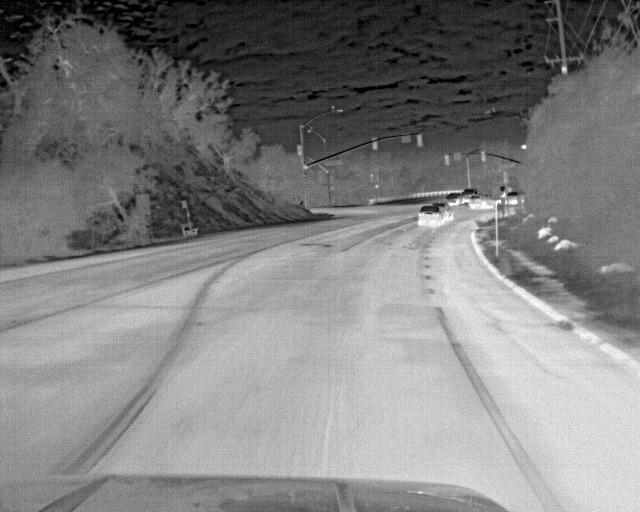car: (418, 206, 444, 226), (432, 201, 453, 221), (444, 193, 463, 205), (461, 188, 477, 202), (469, 195, 483, 207), (479, 193, 492, 205)
light: (417, 134, 422, 147), (372, 137, 377, 149), (503, 172, 508, 184), (481, 150, 486, 161), (445, 155, 449, 165), (297, 146, 301, 155), (370, 174, 373, 182), (376, 174, 379, 181), (508, 188, 512, 192), (375, 185, 379, 188)
sign: (136, 194, 150, 215), (325, 160, 342, 166), (401, 133, 411, 143), (453, 151, 461, 161), (182, 201, 187, 208)
